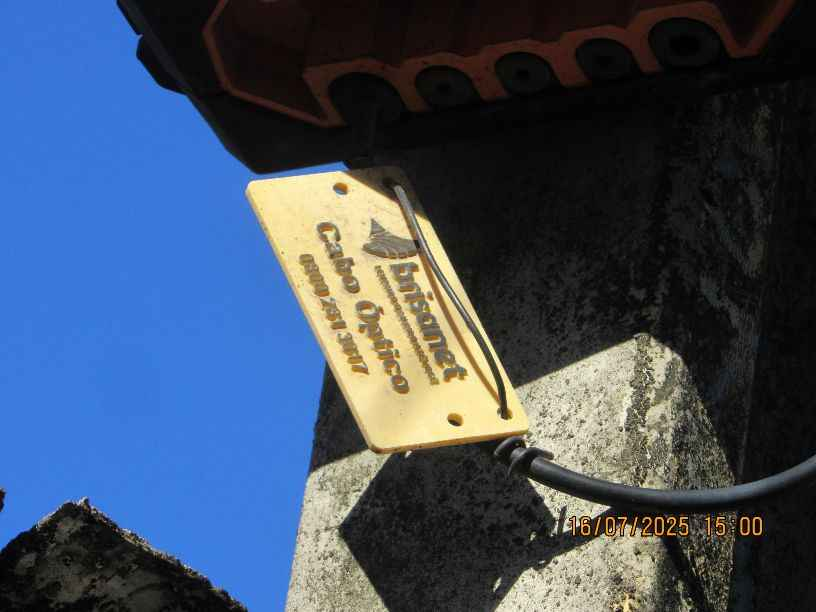fibra_optica: (222, 149, 533, 476)
